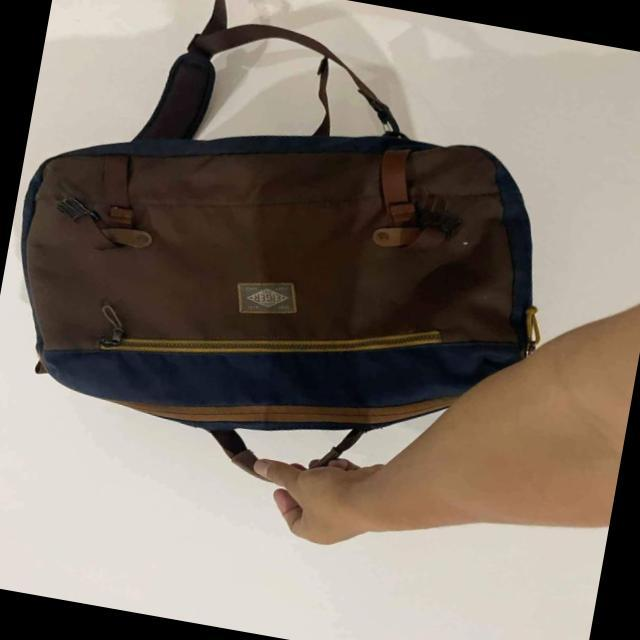bag: (20, 133, 532, 430)
